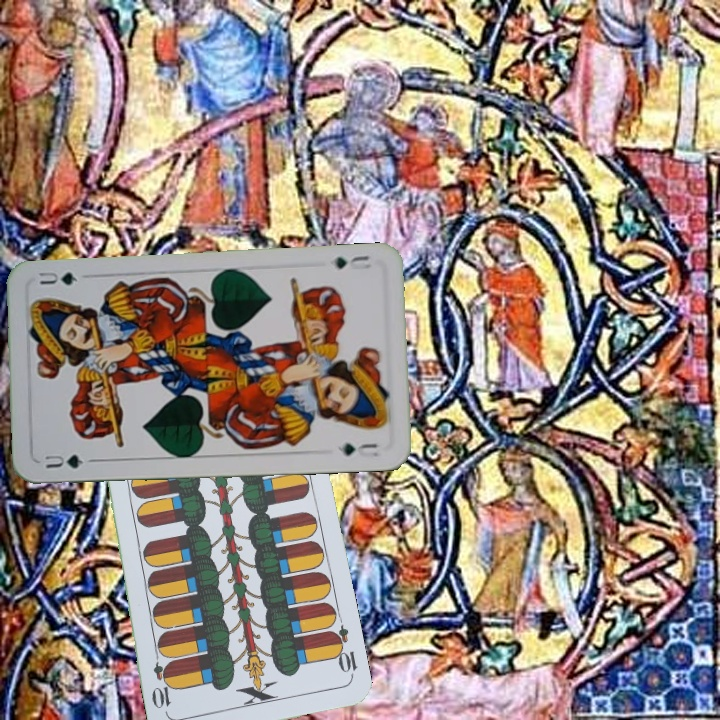E10: (326, 622, 360, 680)
GU: (41, 450, 96, 471), (330, 251, 372, 271)
